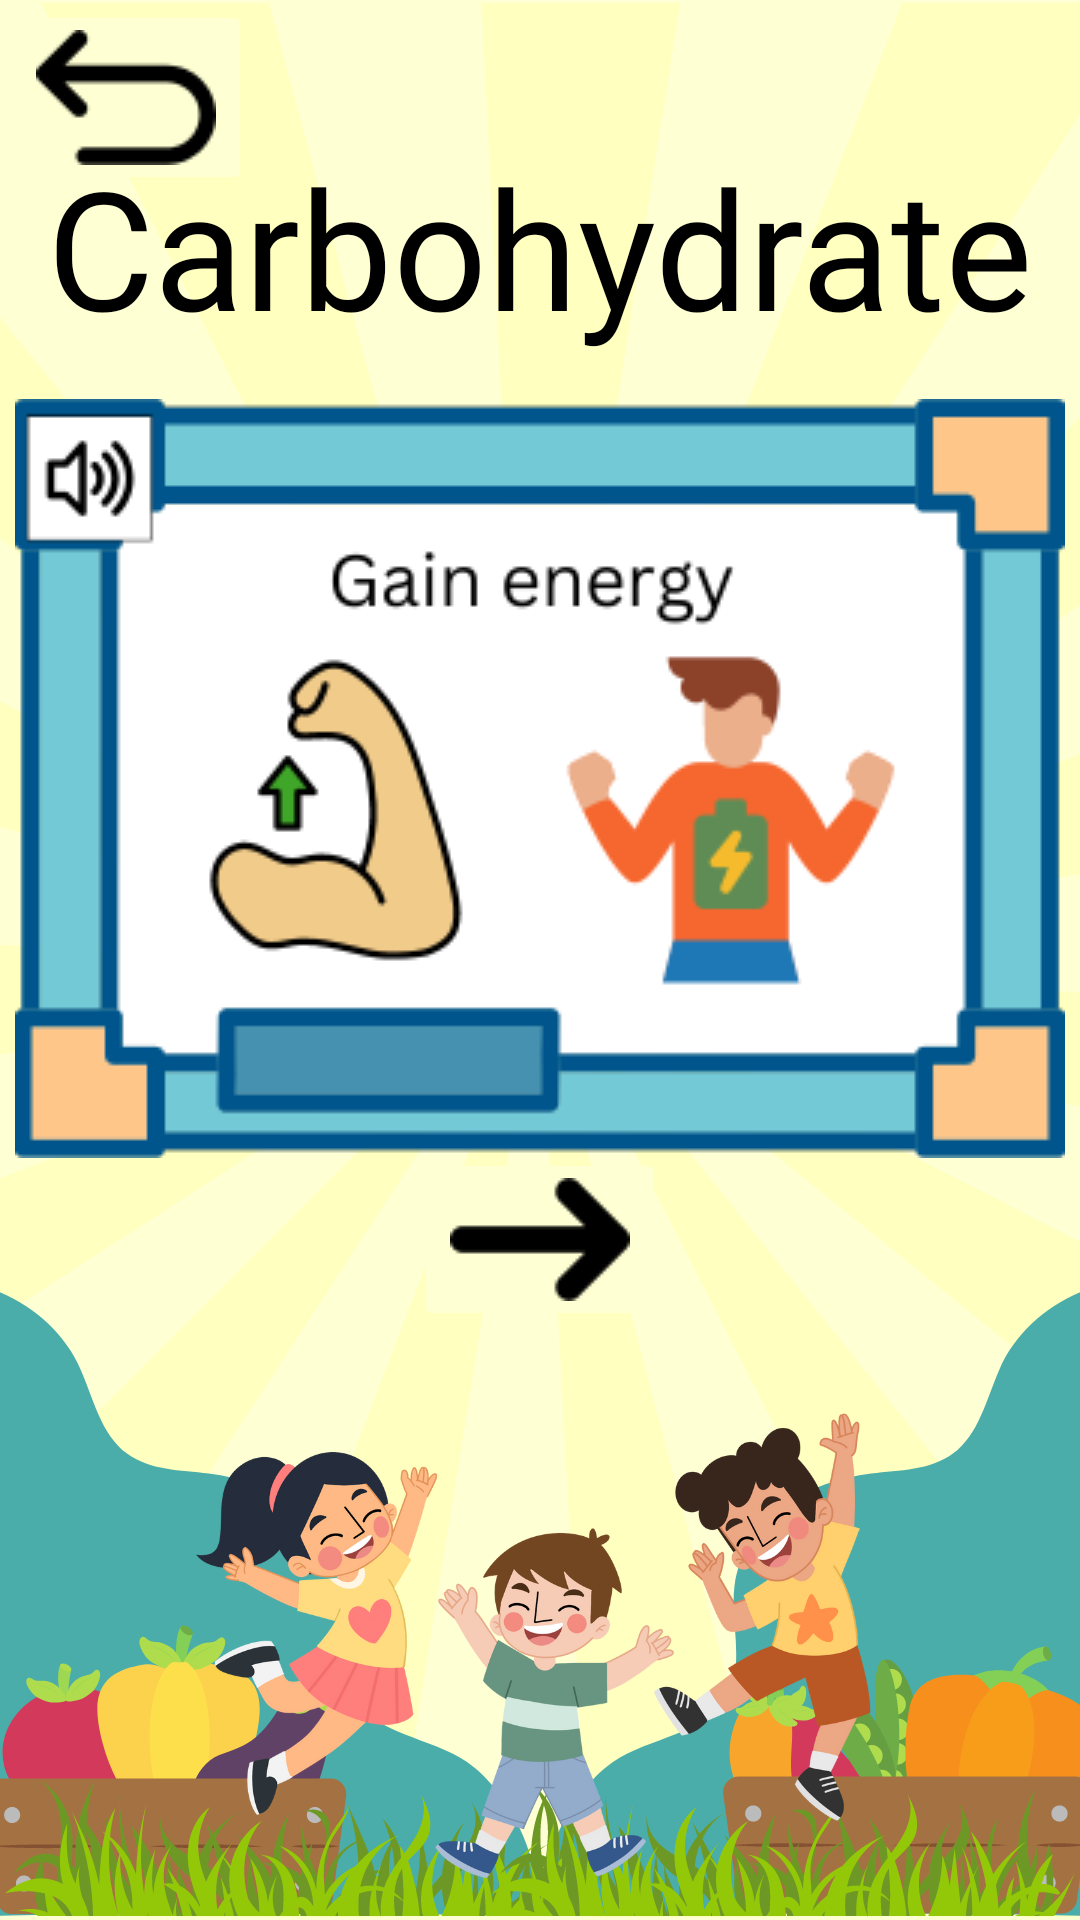

Icons on this 1080 x 1920 Android screen, each with the point to tap as [x,y]:
Back: [126,97]
Next button: [540,1239]
